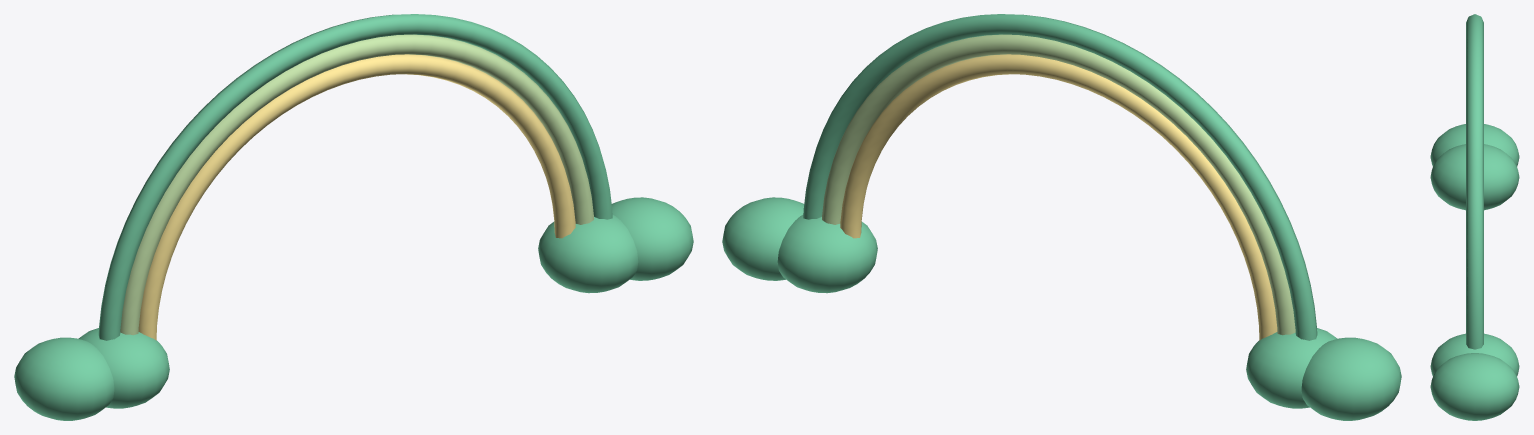
The model's file is st_rain_gate.glb.
3 views of the same model, side by side, from view 1: azimuth 30°, elevation 25°; view 2: azimuth 150°, elevation 25°; view 3: azimuth 270°, elevation 25° (orthographic). The views are drawn at different scales.
Visible parts, largest first — view 1: Rainbow_Gate; view 2: Rainbow_Gate; view 3: Rainbow_Gate.
Boxes of the visible parts, <box> form: Rainbow_Gate: <box>14,14,693,420</box>; Rainbow_Gate: <box>722,14,1401,420</box>; Rainbow_Gate: <box>1430,14,1519,420</box>.
Bounding box in the file's own units: 3.96 × 1.84 × 0.56.
